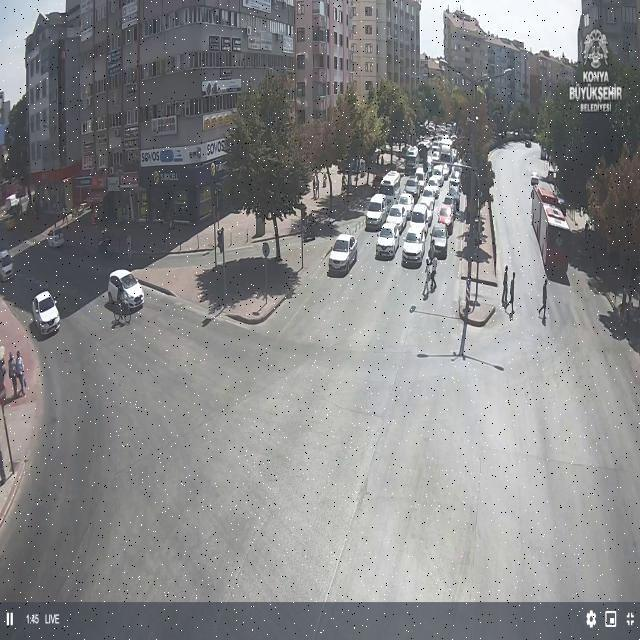Bus: (529, 184, 573, 276)
Car: (107, 269, 145, 311), (31, 291, 60, 335), (328, 233, 359, 273), (401, 227, 428, 265), (375, 223, 401, 260), (365, 193, 391, 230), (384, 201, 410, 233), (408, 202, 430, 234), (430, 224, 449, 259), (396, 192, 416, 220), (436, 203, 454, 232), (1, 249, 14, 281), (403, 177, 421, 199), (441, 194, 457, 217), (46, 230, 64, 249)
